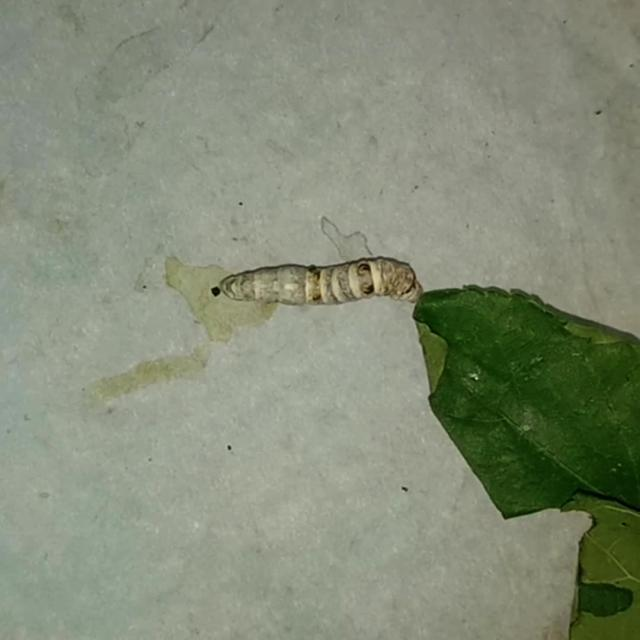Grasserie: (205, 231, 439, 336)
